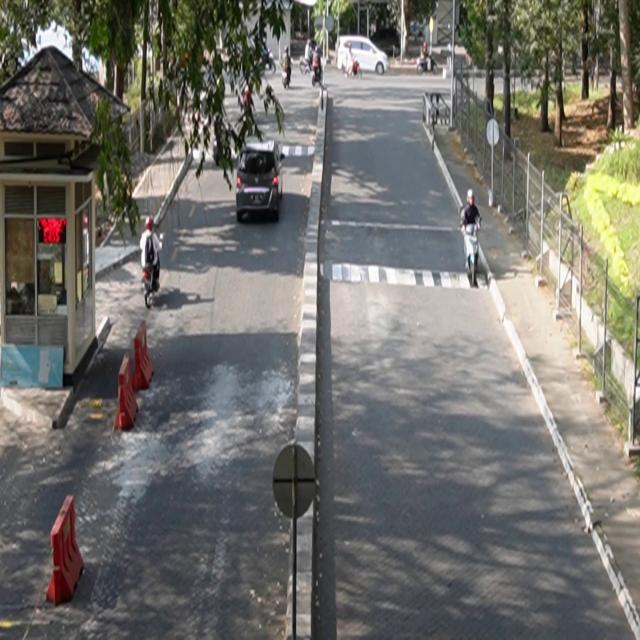car: (236, 140, 286, 223), (337, 36, 391, 76)
